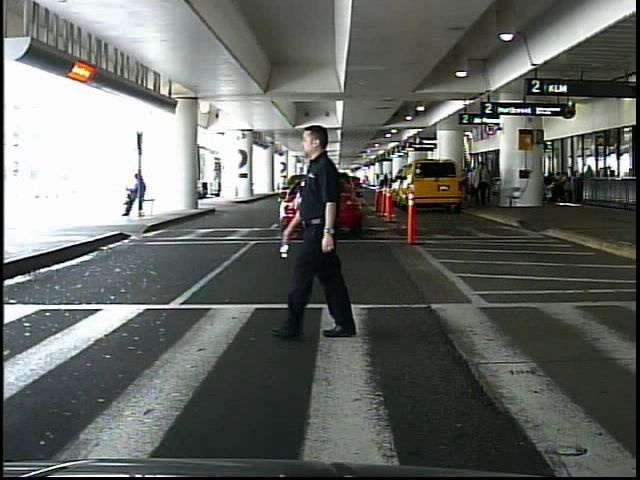person: (286, 122, 360, 345), (474, 162, 490, 208)
